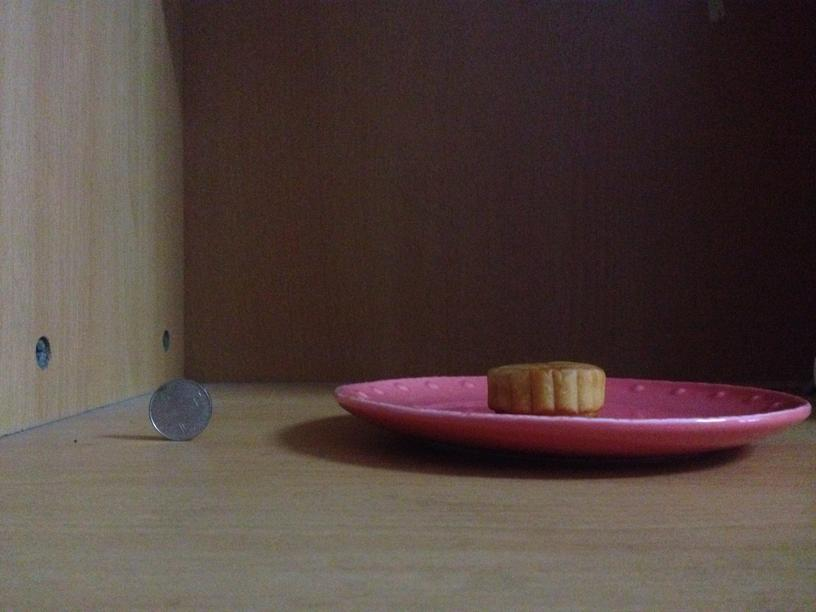coin: (146, 380, 211, 439)
mooncake: (483, 357, 607, 414)
